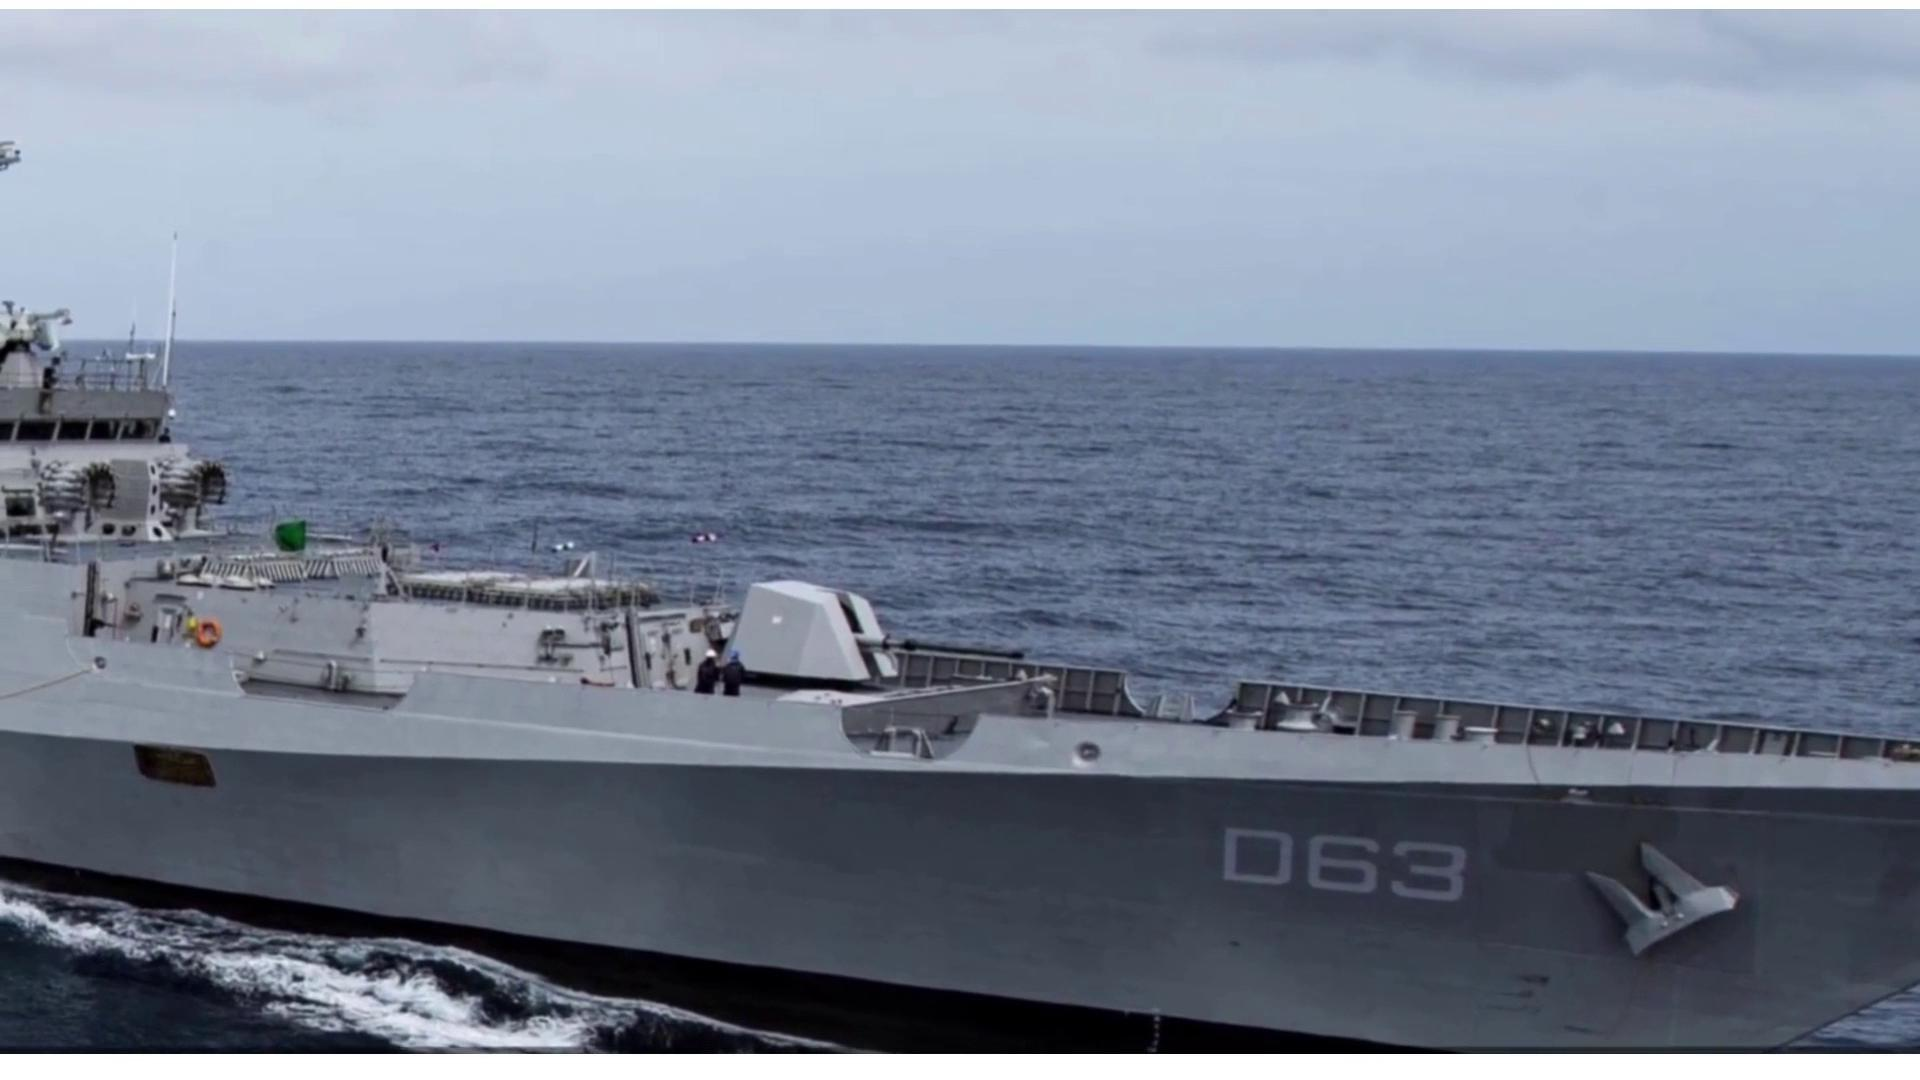OCR: (1213, 816, 1478, 916)
